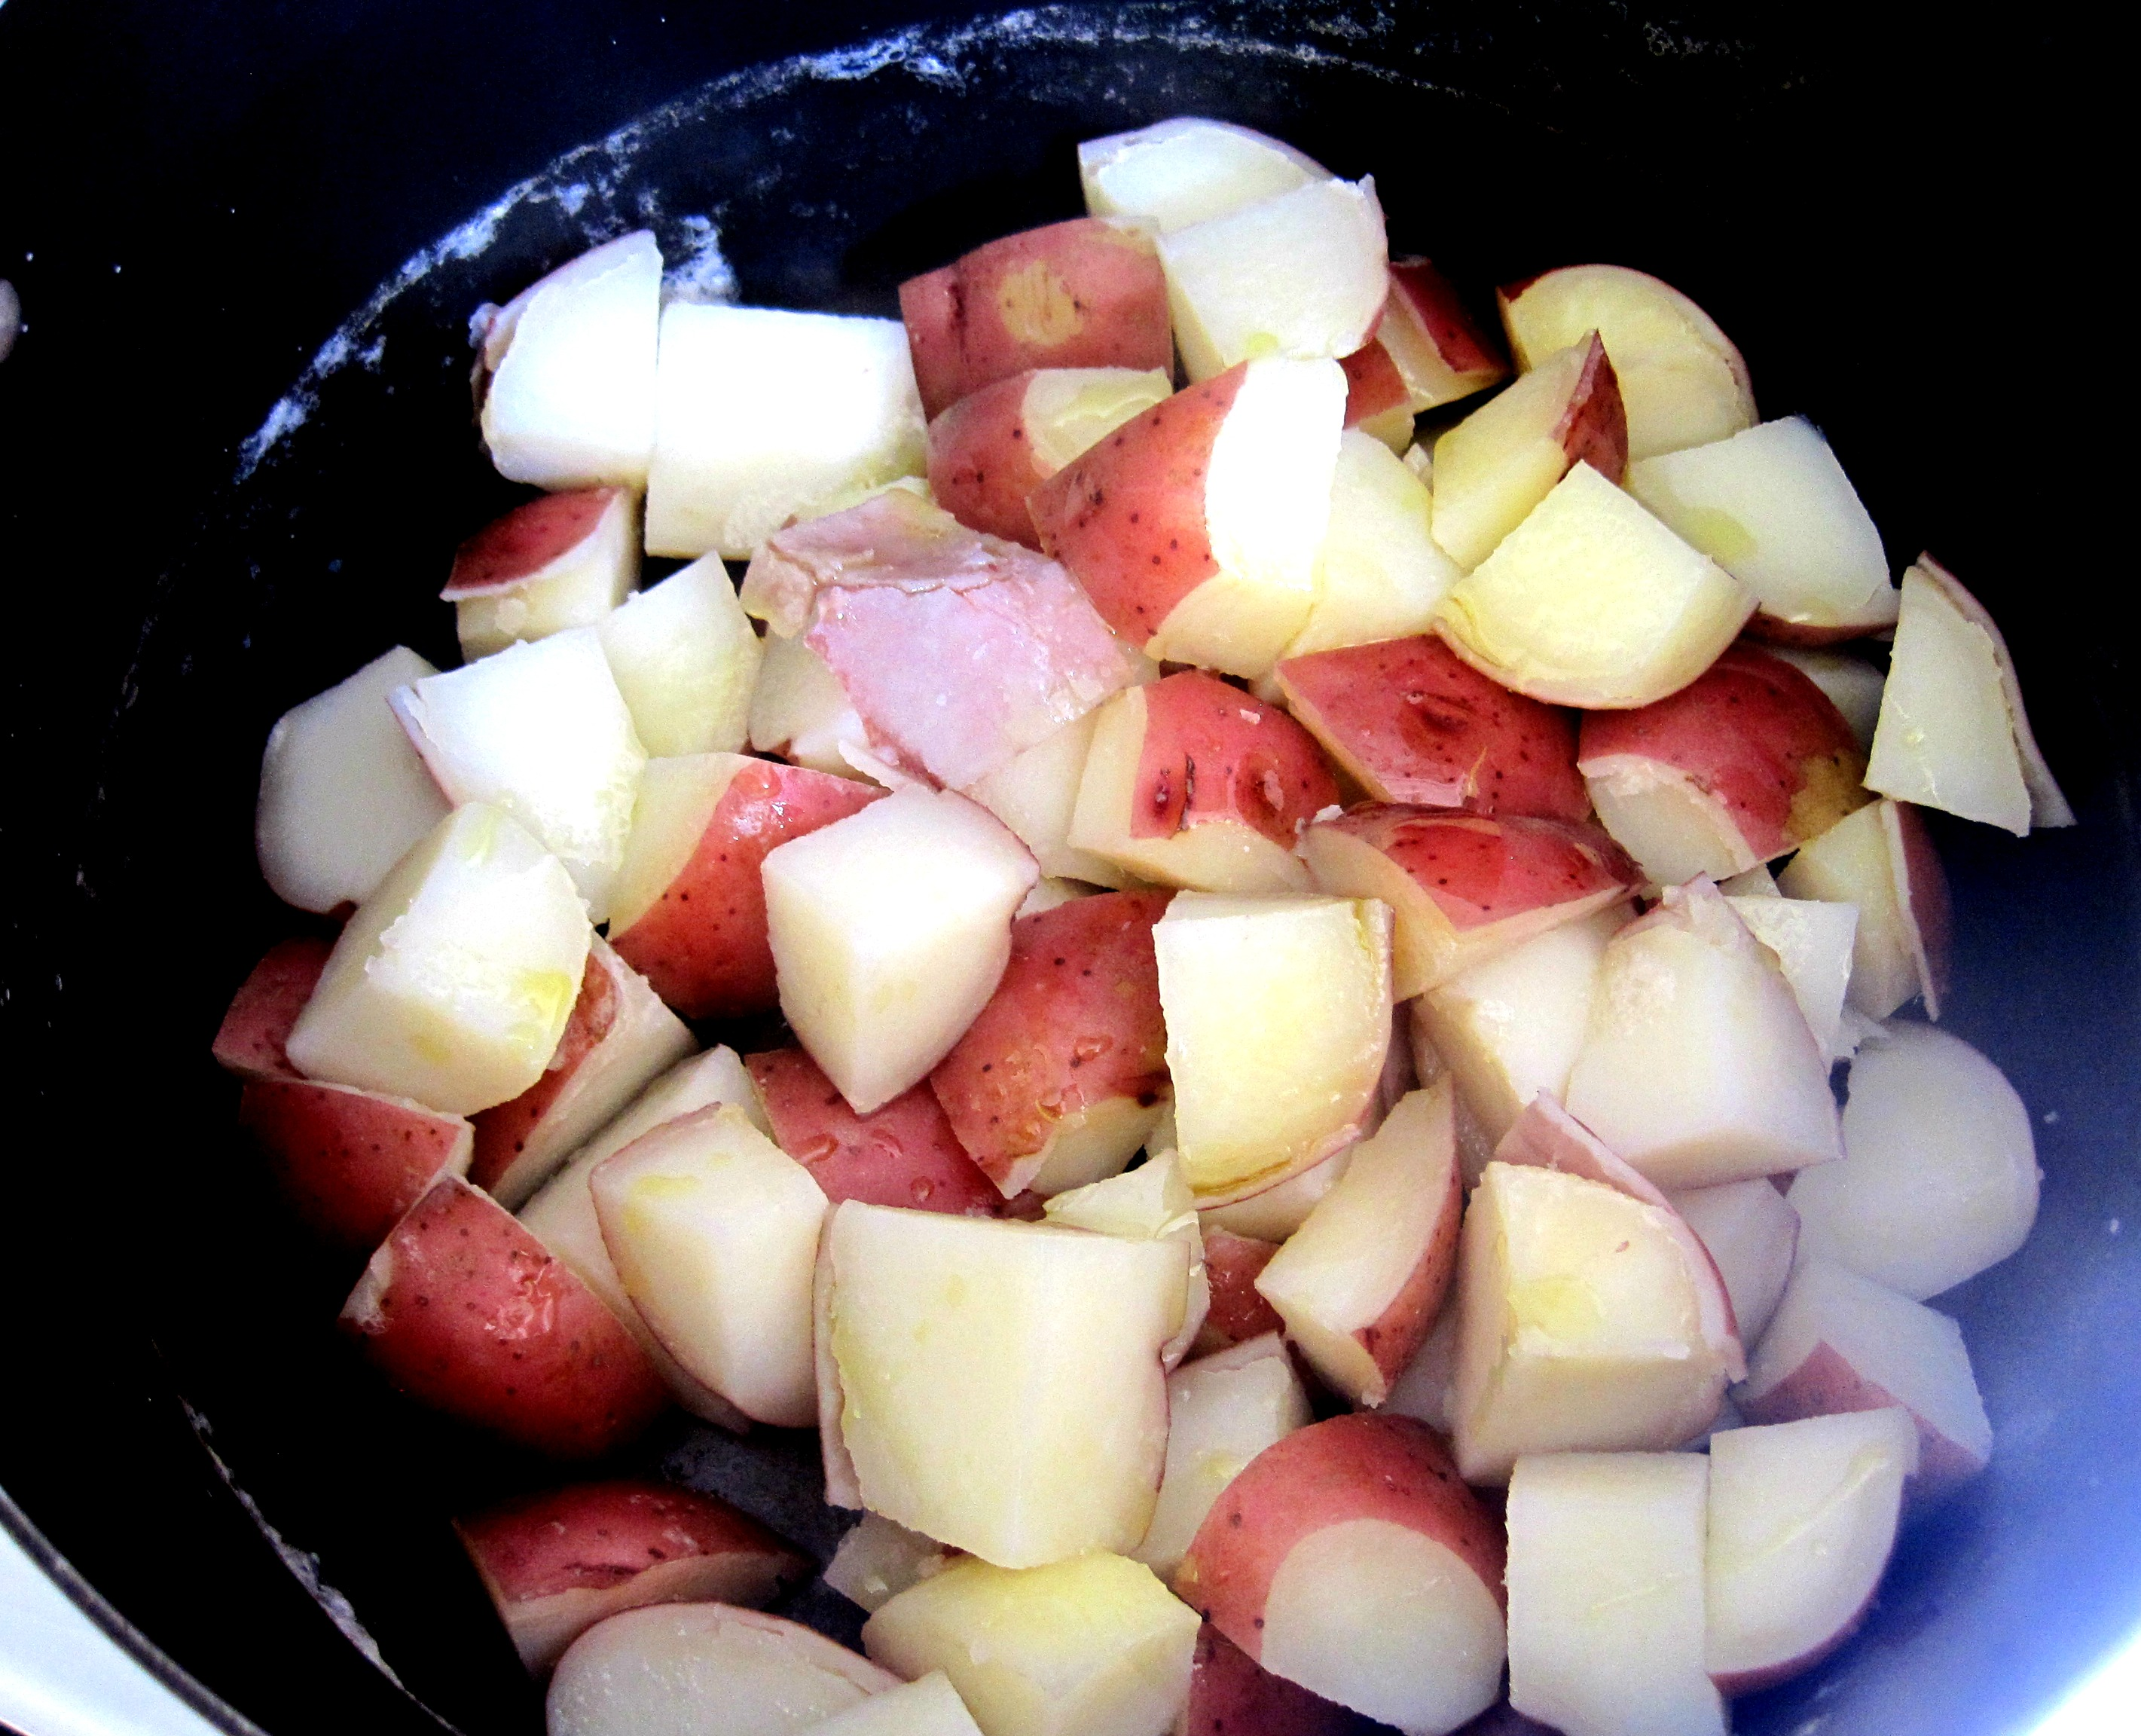boiled potatoes: (400, 255, 1914, 1701)
